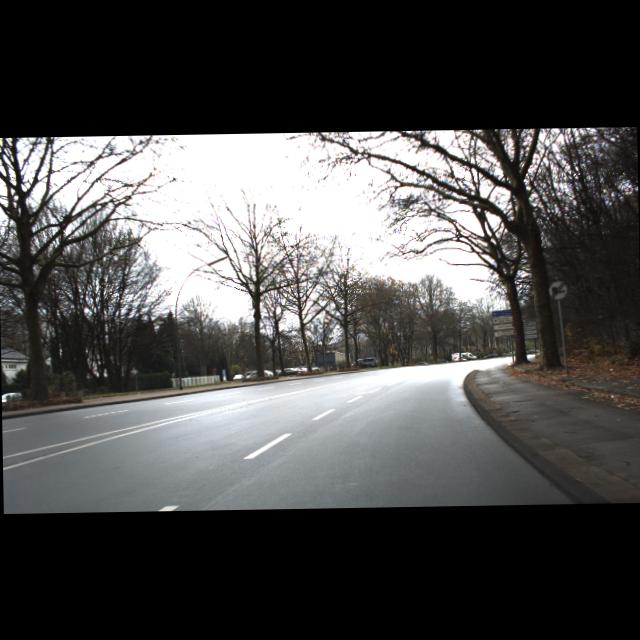other: (548, 280, 567, 300)
